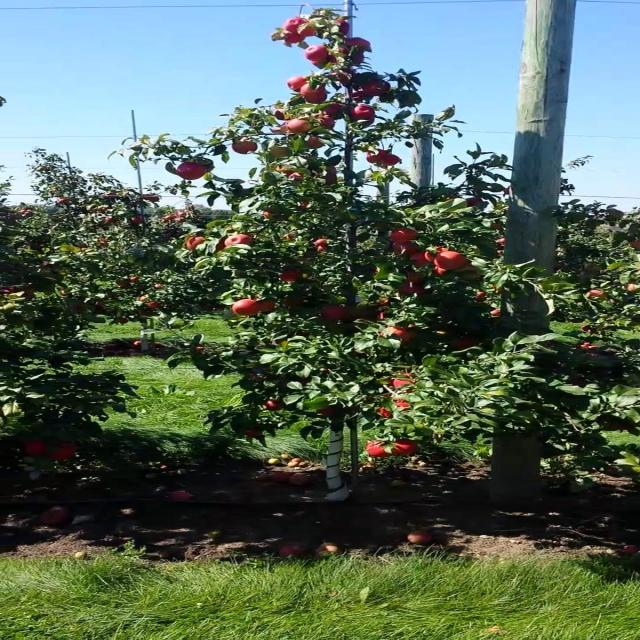apple: (383, 400, 412, 420), (390, 440, 420, 456), (177, 164, 206, 180), (440, 252, 469, 268), (362, 80, 391, 96), (49, 444, 78, 460), (383, 328, 414, 341), (390, 376, 416, 391), (234, 300, 258, 316), (234, 140, 258, 156), (28, 440, 50, 457), (333, 68, 356, 84), (390, 232, 420, 244), (397, 284, 427, 296), (298, 20, 320, 36), (369, 444, 391, 459), (305, 48, 331, 60), (291, 120, 313, 134), (6, 288, 36, 298), (461, 268, 484, 281), (412, 252, 430, 268), (298, 24, 320, 37), (284, 32, 306, 45), (404, 272, 427, 284), (326, 104, 345, 118), (305, 84, 327, 96), (326, 308, 348, 320), (262, 400, 284, 412), (355, 108, 377, 120), (454, 340, 478, 351), (255, 300, 277, 312), (319, 56, 341, 68), (284, 20, 304, 33), (397, 244, 420, 255), (276, 124, 297, 136), (383, 408, 404, 420), (284, 272, 304, 284), (348, 52, 366, 65), (383, 156, 404, 167), (333, 20, 348, 35), (340, 20, 354, 35), (291, 80, 308, 92), (348, 92, 368, 102), (348, 40, 370, 49), (319, 116, 334, 129), (276, 108, 292, 120), (376, 152, 395, 162), (276, 164, 293, 175), (191, 236, 206, 248), (312, 136, 327, 148), (234, 236, 256, 244), (276, 148, 292, 159), (305, 96, 327, 104), (284, 300, 306, 308), (319, 408, 338, 417), (589, 292, 610, 300), (397, 400, 412, 410), (476, 292, 491, 302), (625, 284, 638, 295), (433, 268, 450, 276), (326, 176, 341, 185), (291, 172, 306, 181), (369, 152, 380, 164), (468, 200, 484, 208), (248, 432, 263, 440), (362, 120, 377, 128), (433, 248, 450, 255), (276, 112, 290, 120), (340, 48, 354, 56), (376, 312, 388, 321), (326, 168, 340, 175), (262, 212, 274, 220), (220, 240, 229, 250), (490, 312, 503, 317), (298, 204, 311, 209), (284, 236, 299, 240), (497, 240, 505, 247), (383, 300, 391, 306), (319, 240, 327, 244)
